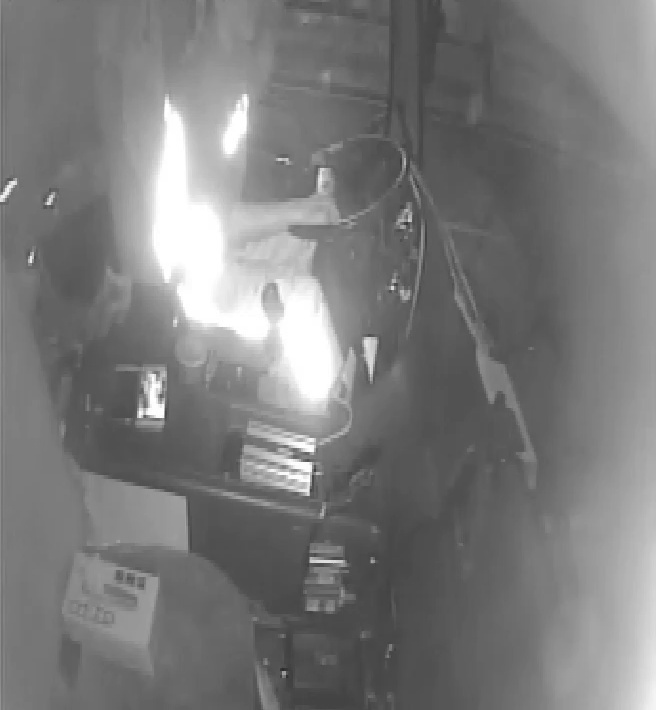cellphone: (135, 359, 169, 432)
